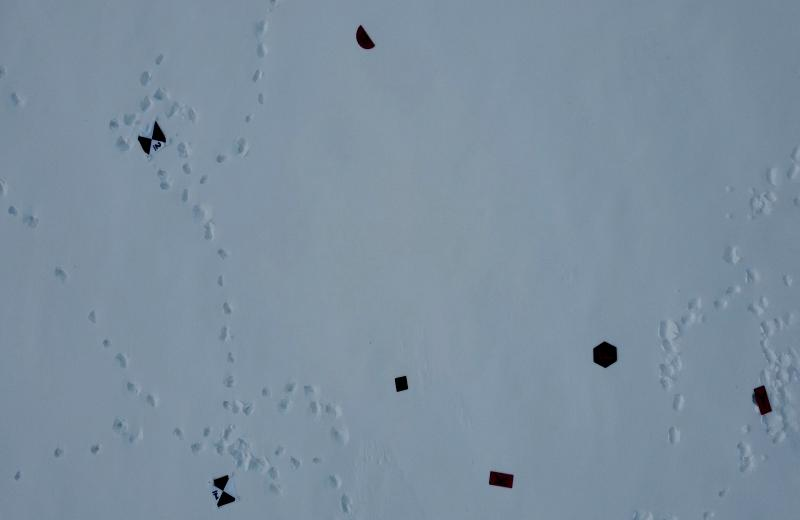Hexagon: (591, 338, 622, 372)
Rectangle: (486, 460, 515, 494), (747, 382, 775, 414)
Semi Circle: (352, 22, 377, 54)
Square: (390, 372, 413, 396)
